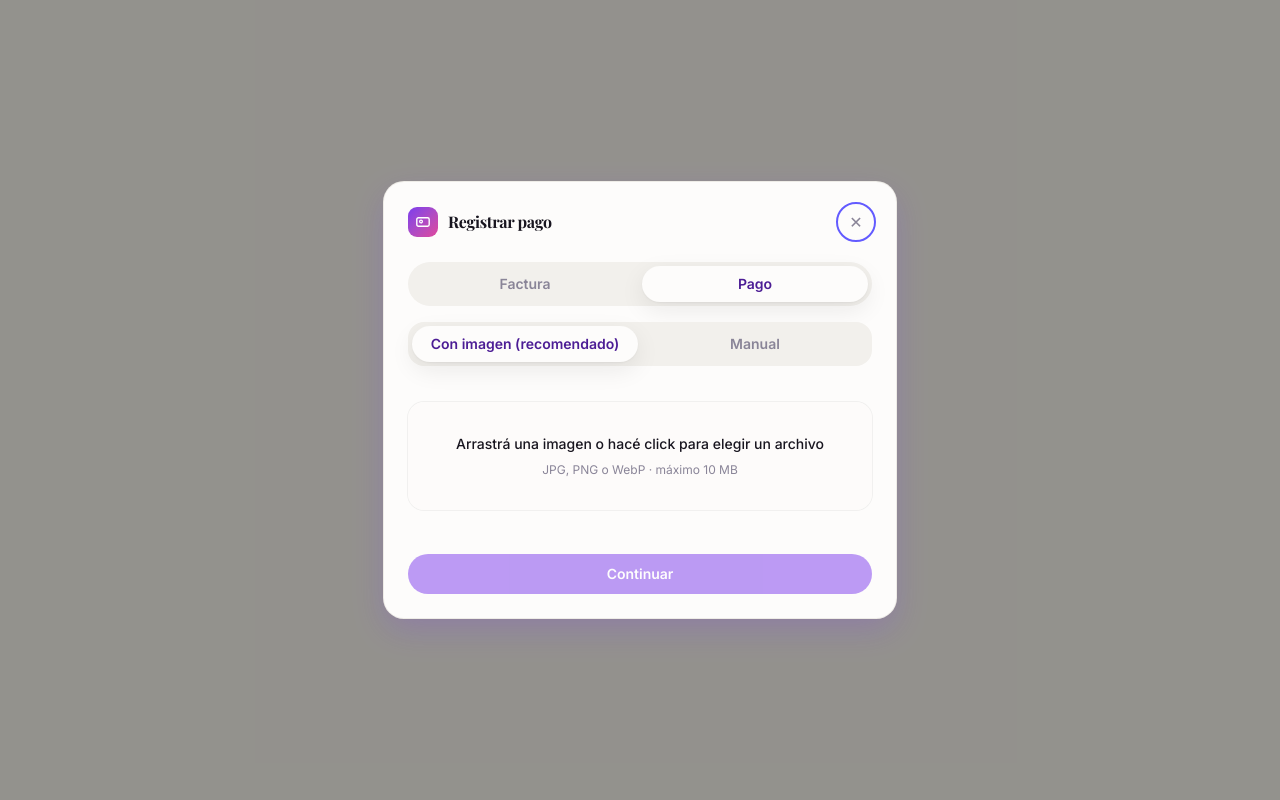
Test: PagoFormPage — ?proveedor_id= pre-fill › pre-fills the supplier chip when ?proveedor_id=X is present in the URL
Click the button "Manual". click: [755, 344]
box: [642, 326, 868, 362]
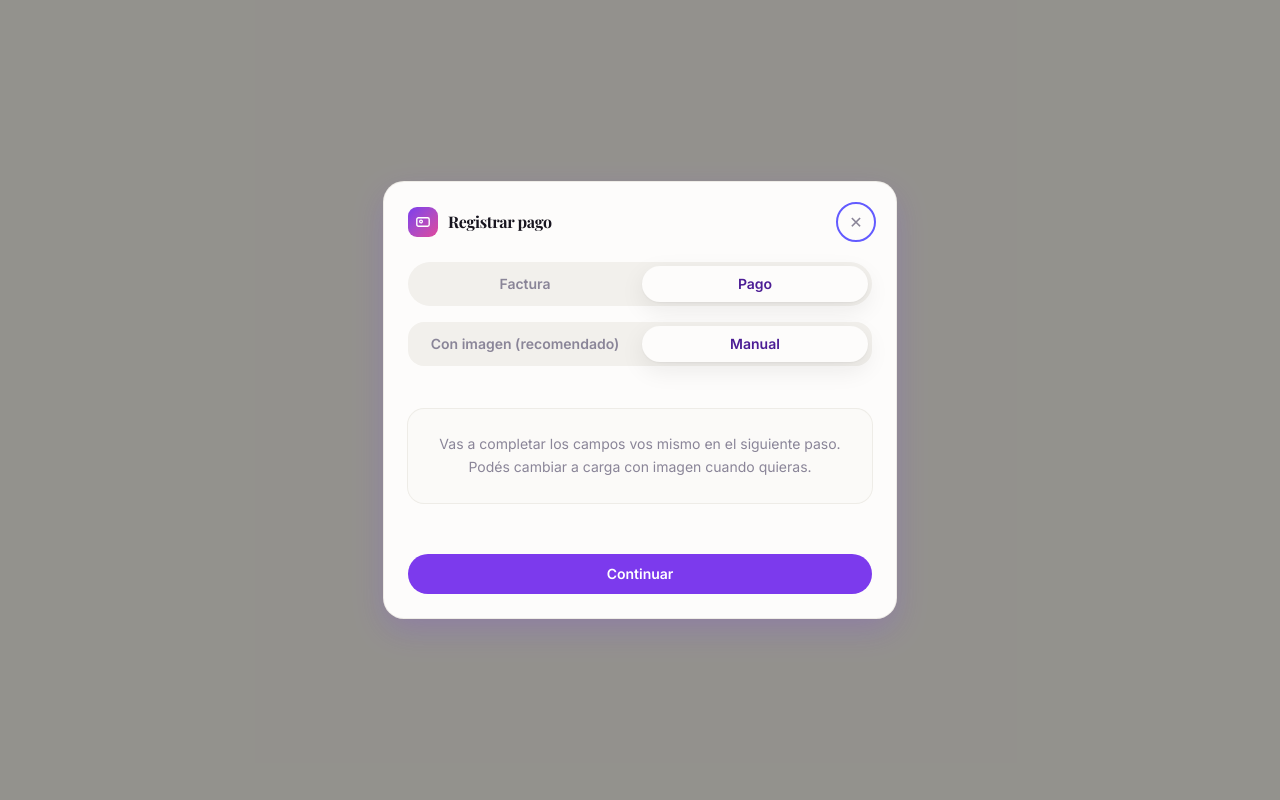
Click the button "Continuar". click: [640, 574]
box: [408, 554, 872, 594]
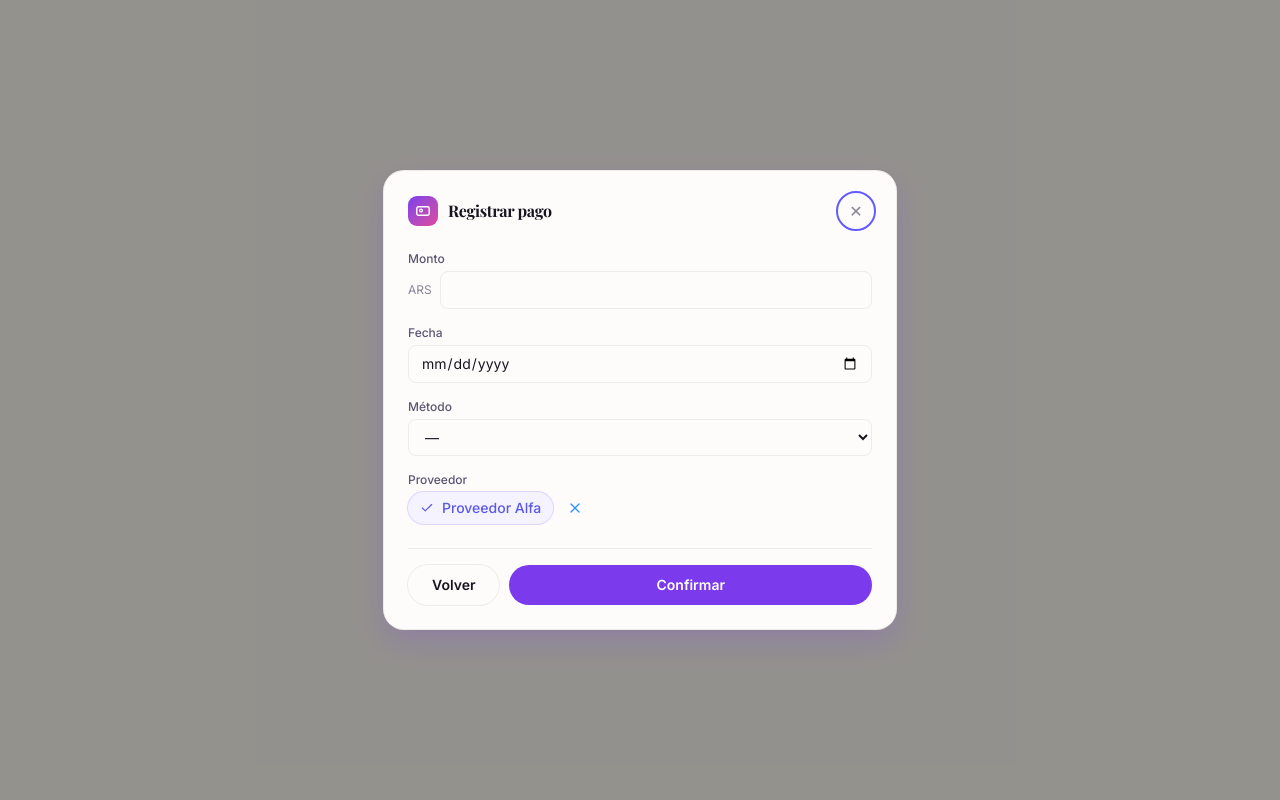
Expected: the text "Proveedor Alfa" is shown, [408, 492, 553, 524]
